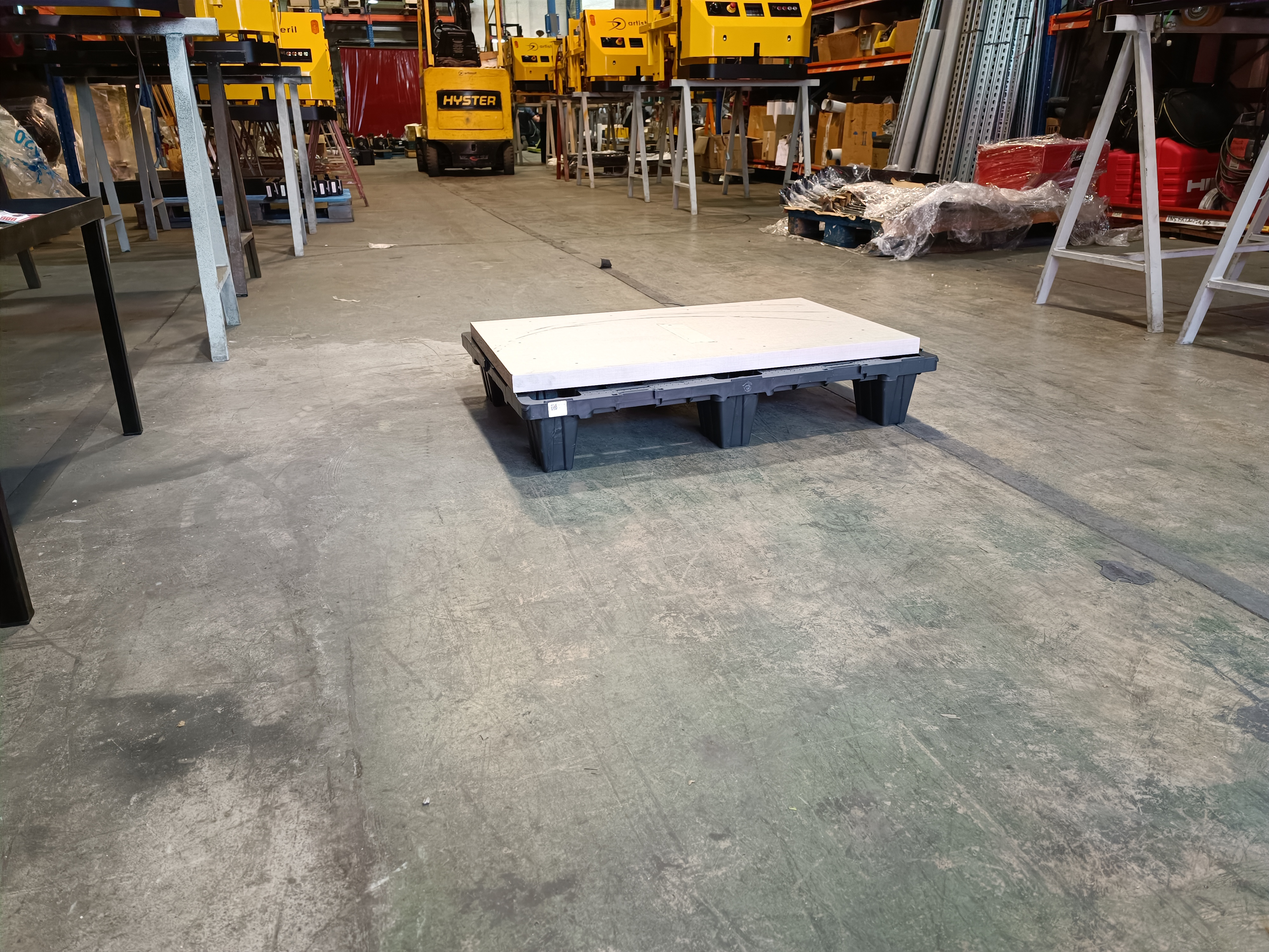block: (703, 387, 768, 448), (855, 374, 921, 429), (528, 422, 585, 474)
front: (525, 352, 949, 489)
hole pallet: (577, 404, 722, 458), (766, 382, 886, 433)
